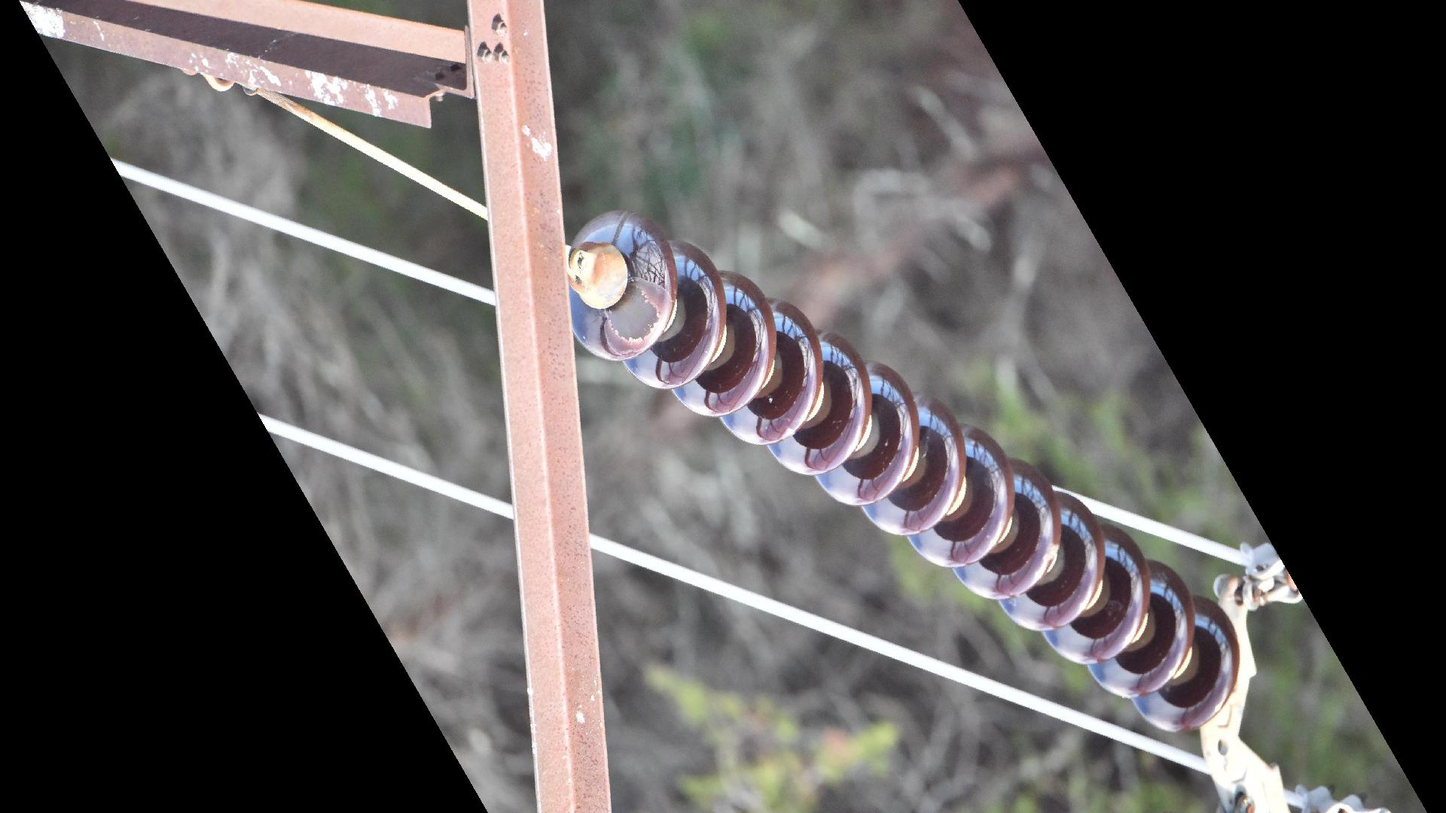insulator: (563, 204, 1245, 734)
insulator_flashover: (602, 276, 663, 344)
